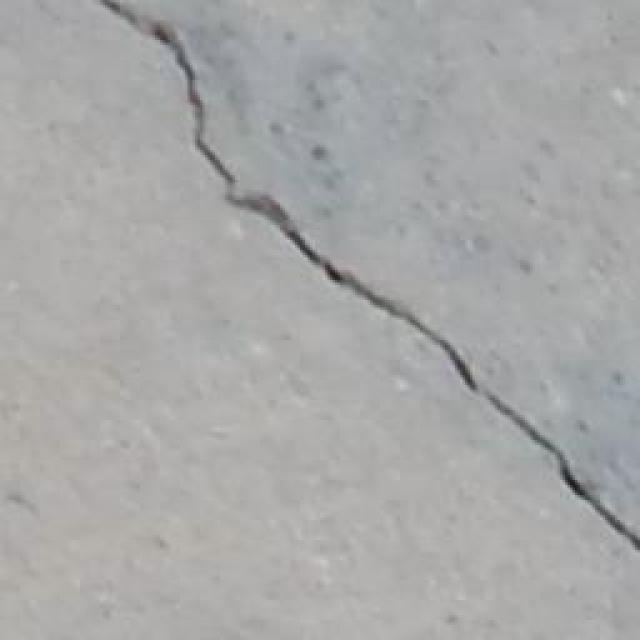concrete-crack: (103, 0, 640, 554)
